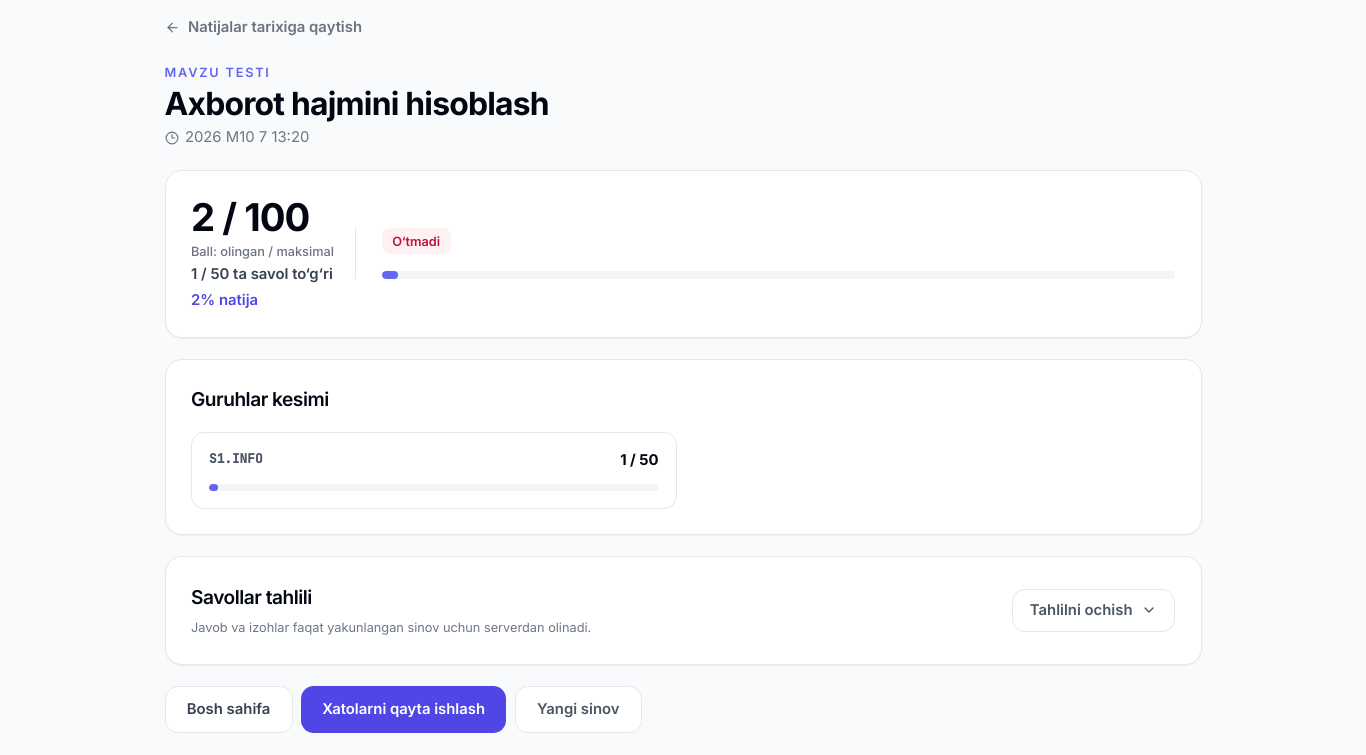
Test case: ExamResultPage › yakunlangan testda javobsiz savollarni xato emas, Javobsiz deb ko‘rsatadi
expect the text "2 / 100" is shown: met, box [191, 194, 310, 240]
Step 1. Click the button "Tahlilni ochish" → coordinates (1093, 610), box [1012, 589, 1175, 632]
(page scrolled)
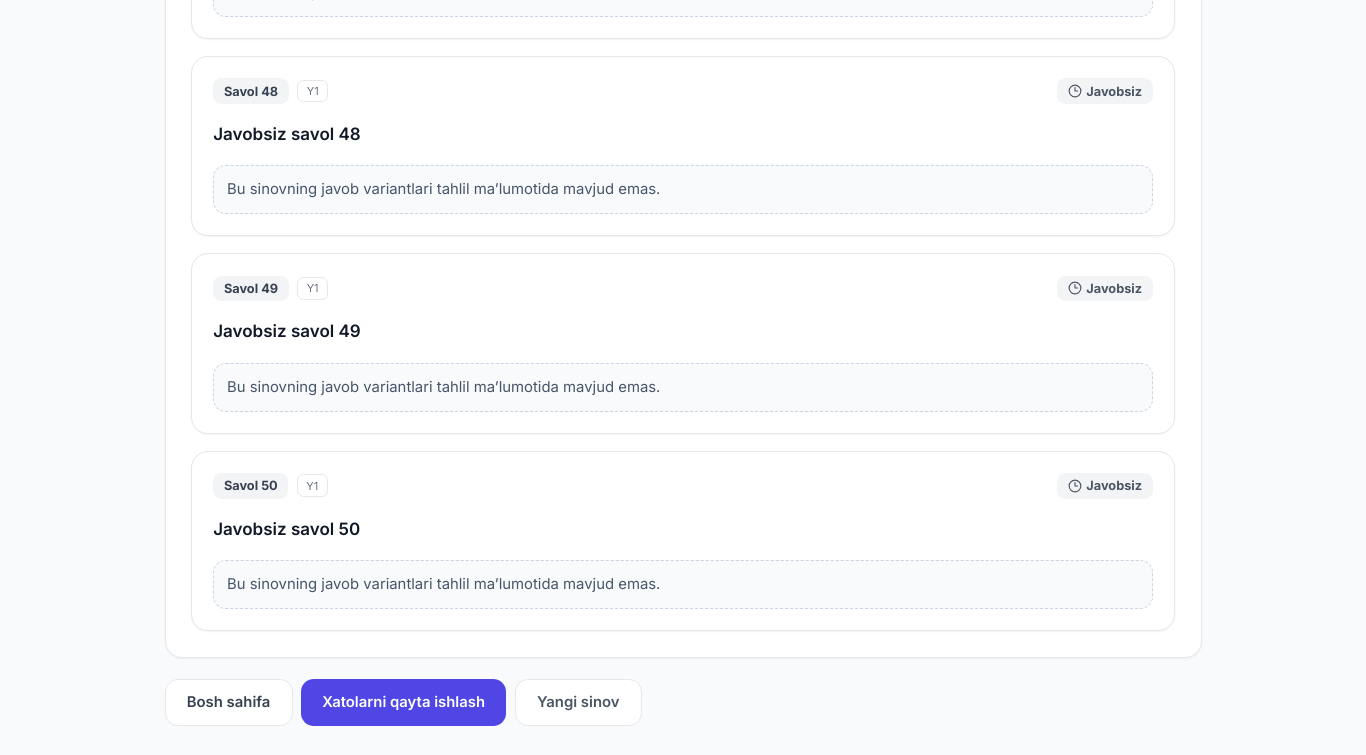
expect the text "Javobsiz savol 50" is shown: met, box [213, 518, 360, 538]
